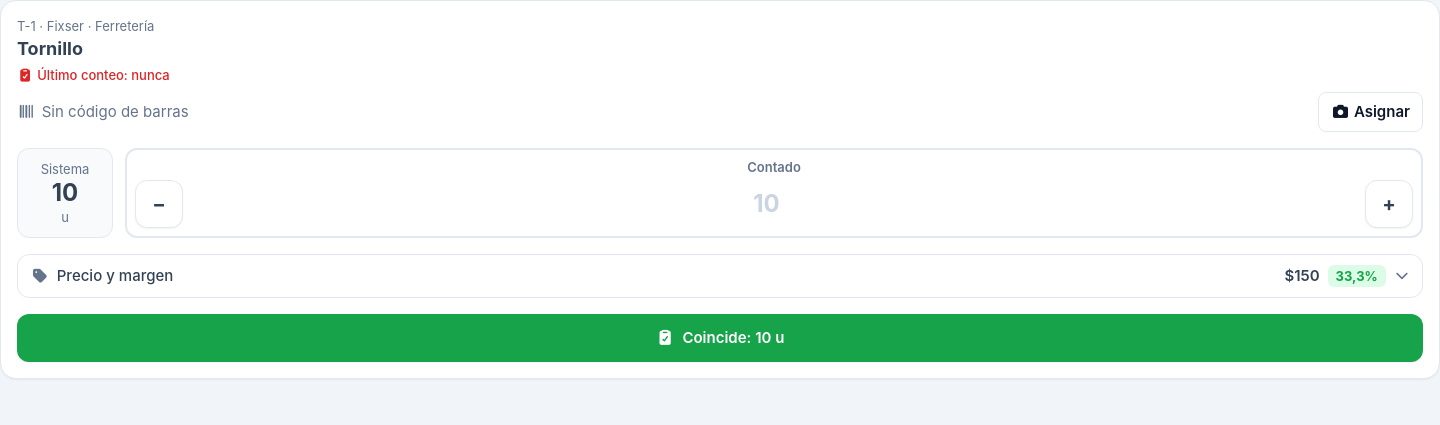
Test: components/ProductoCard › conteo › diferencia: faltan / sobran / coincide
This screenshot has width=1440, height=425.
In the number field named "Stock contado": (774, 204) [191,180,1357,228], type "7"
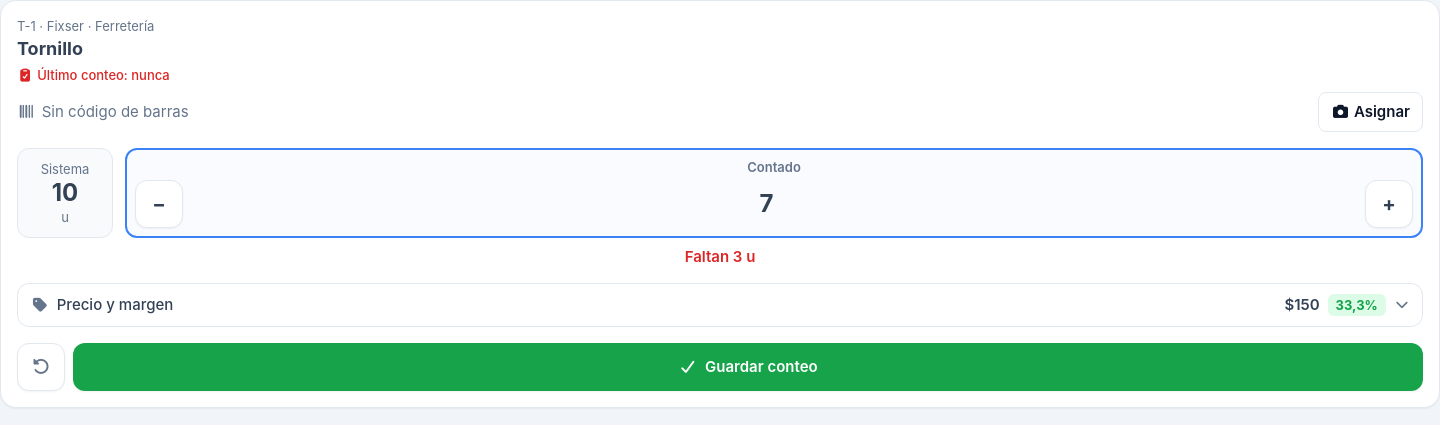
expect the text "Faltan 3 u" is shown: met, box [685,247,755,266]
Replace the text in the number field named "Stock contado" with "12": (774, 204) [191,180,1357,228]
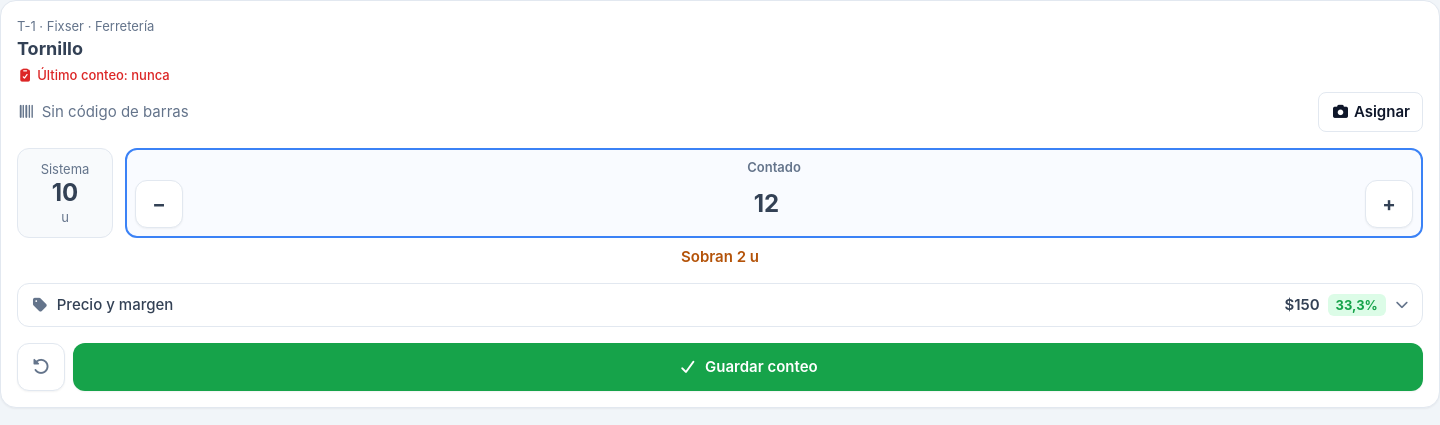
expect the text "Sobran 2 u" is shown: met, box [681,247,759,266]
Replace the text in the number field named "Stock contado" with "10": (774, 204) [191,180,1357,228]
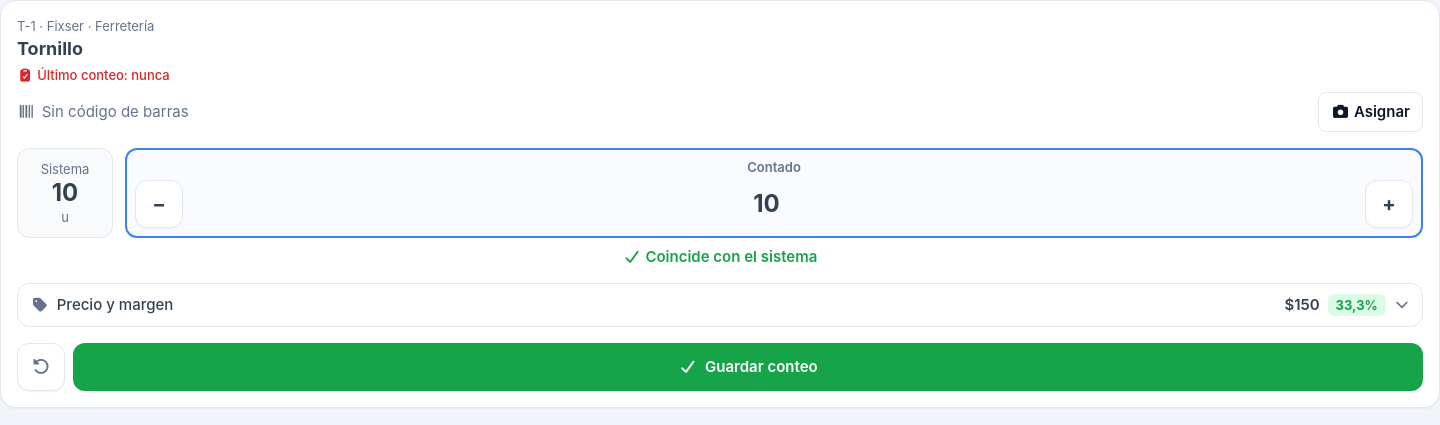
expect the text "Coincide con el sistema" is shown: met, box [623,247,817,266]
